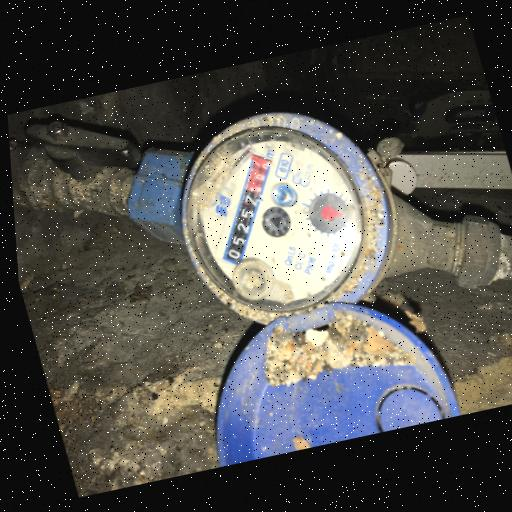0: (223, 242, 246, 264)
2: (229, 216, 254, 239)
4: (241, 176, 267, 199)
5: (234, 202, 259, 224), (226, 230, 250, 252)
6: (245, 164, 270, 186)
7: (246, 151, 275, 175), (238, 188, 263, 211)
border_water_meter_number: (185, 141, 305, 273)
